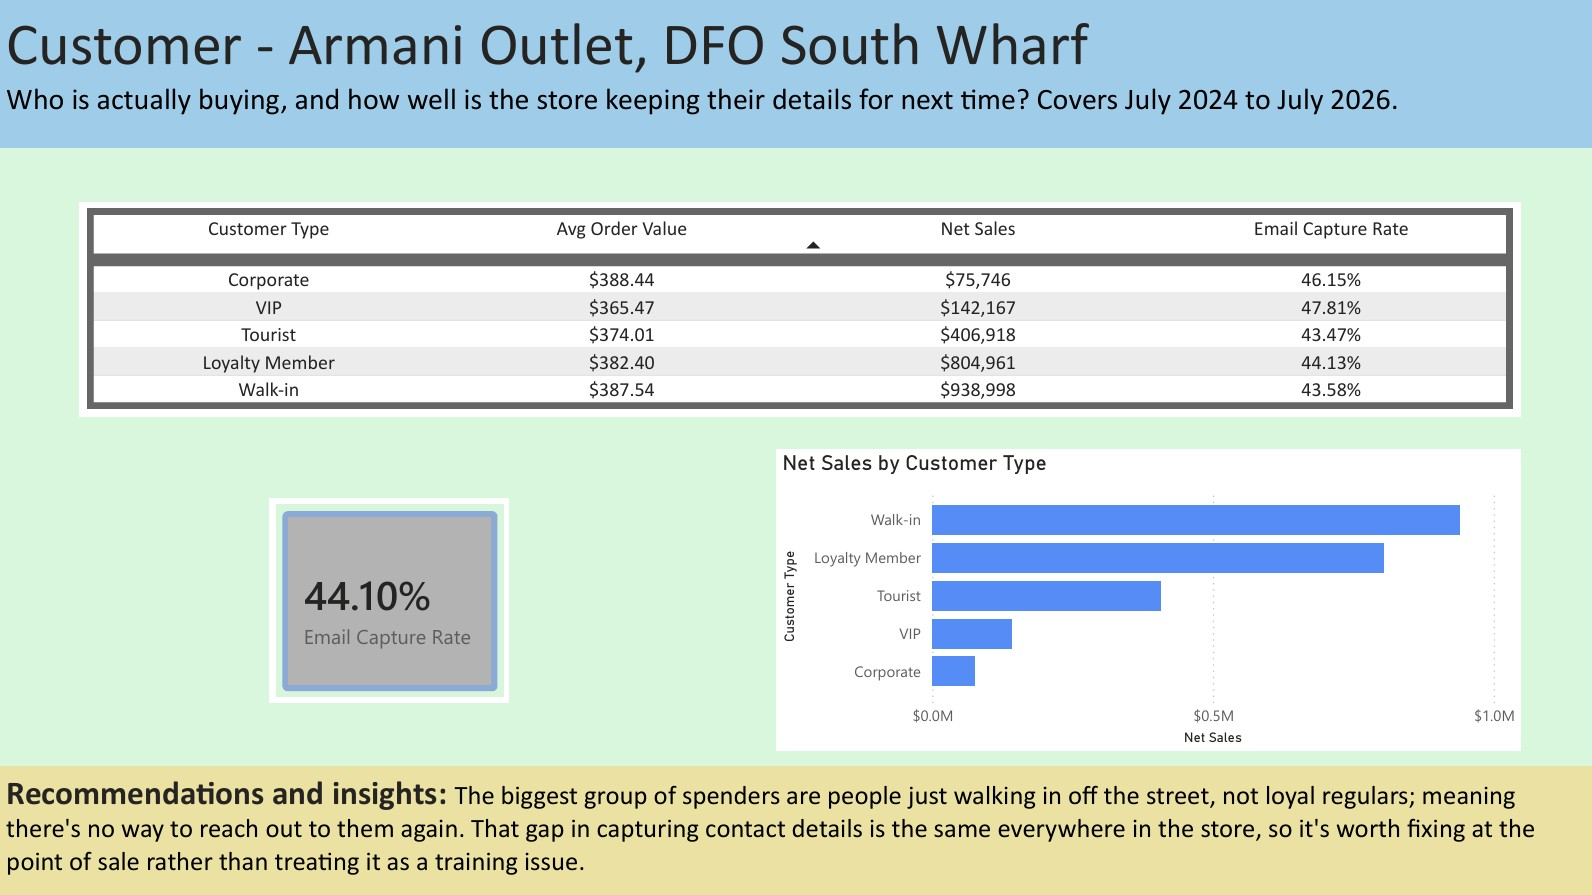

The page's visual inventory and layout, read from the dashboard file:
{"tool":"powerbi","page":{"name":"Customer","canvas":[1280,720],"ordinal":4},"visuals":[{"type":"textbox","box":[0,0,1280.3,119.3],"z":0},{"type":"textbox","box":[0,613.1,1280.3,106.9],"z":1000},{"type":"tableEx","fields":{"Values":["Customer_Type.Customer Type","Measure.Avg Order Value","Measure.Net Sales","Measure.Email Capture Rate"]},"box":[64,161.6,1153.5,172.1],"z":2000},{"type":"cardVisual","fields":{"Data":["Measure.Email Capture Rate"]},"box":[216.3,398.8,191.9,164],"z":3000},{"type":"clusteredBarChart","fields":{"Y":["Measure.Net Sales"],"Category":["Customer_Type.Customer Type"]},"box":[620.9,360.5,596.5,240.7],"z":4000}]}

Visuals, with their boxes in screenshot pixels (x1, y1, x2, y2), scaled from the page's 1280x720 canvas onto the 1592x895 screenshot:
textbox: {"x1": 0, "y1": 0, "x2": 1591, "y2": 148}
textbox: {"x1": 0, "y1": 762, "x2": 1591, "y2": 894}
tableEx - Customer_Type.Customer Type x Measure.Avg Order Value: {"x1": 80, "y1": 201, "x2": 1514, "y2": 415}
cardVisual - Measure.Email Capture Rate: {"x1": 269, "y1": 496, "x2": 508, "y2": 700}
clusteredBarChart - Measure.Net Sales x Customer_Type.Customer Type: {"x1": 772, "y1": 448, "x2": 1514, "y2": 747}
